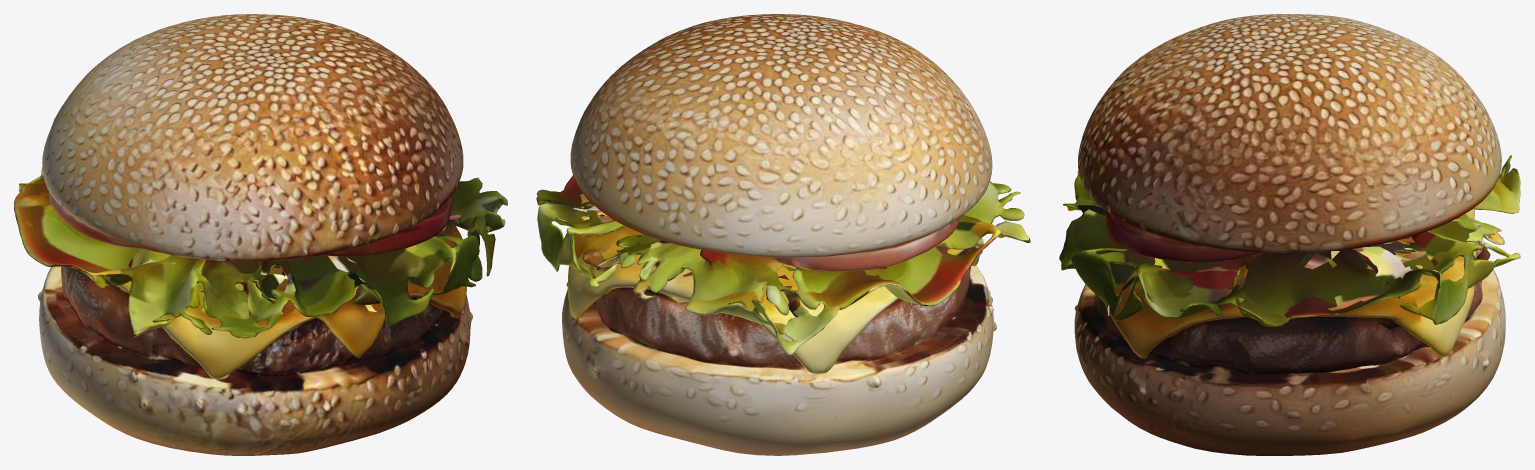
File: burger-ar.glb
3 views of the same model, side by side, from view 1: azimuth 30°, elevation 25°; view 2: azimuth 150°, elevation 25°; view 3: azimuth 270°, elevation 25° (orthographic).
Parts seen in each view (by area): view 1: Burger; view 2: Burger; view 3: Burger.
Part boxes in pixels (<box>): Burger: <box>14,14,507,455</box>; Burger: <box>536,14,1030,455</box>; Burger: <box>1059,14,1520,455</box>.
Bounding box in the file's own units: 0.1445 × 0.12 × 0.1455.
1 material, 1 textured.
